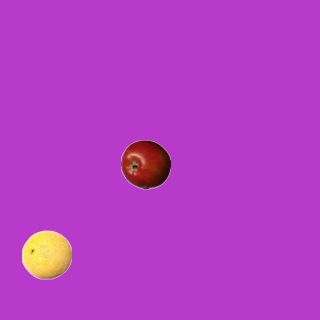Apple Braeburn: (120, 139, 170, 189)
Cantaloupe 1: (21, 229, 71, 279)
